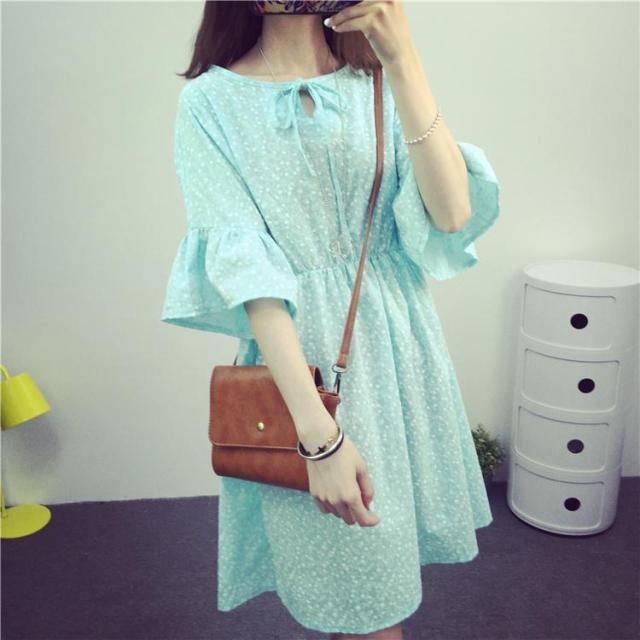short-sleeve-dress: (142, 53, 534, 630)
